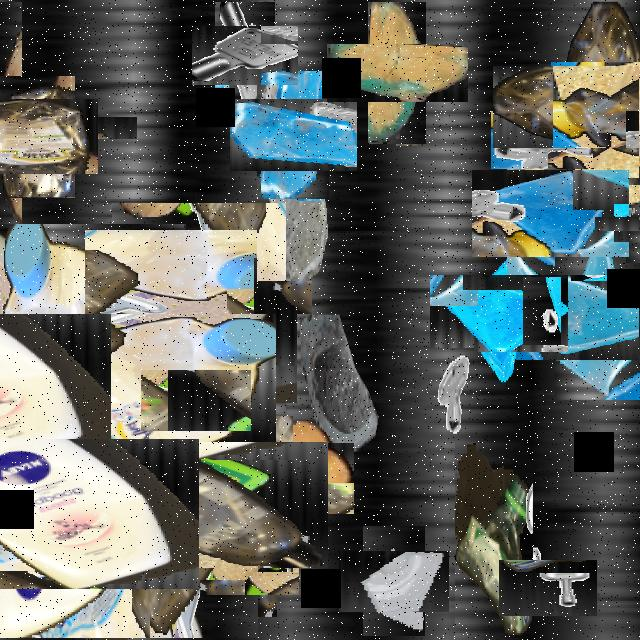glass: (297, 314, 391, 482), (490, 152, 612, 275), (535, 255, 640, 380), (445, 259, 553, 367), (243, 85, 343, 185), (257, 149, 331, 281), (351, 538, 437, 624), (19, 354, 81, 464), (210, 528, 288, 606)
metal: (153, 357, 239, 443), (204, 13, 286, 97), (502, 100, 582, 181), (509, 550, 587, 627), (427, 348, 475, 434), (523, 277, 561, 345), (610, 201, 640, 247)
plastic: (0, 269, 231, 545), (99, 216, 299, 417), (97, 407, 293, 603), (0, 414, 174, 613), (138, 416, 248, 580), (525, 33, 640, 179), (455, 443, 533, 638), (0, 87, 86, 186)
wood: (195, 416, 293, 572), (537, 75, 640, 191), (0, 59, 79, 196), (347, 23, 447, 123), (250, 432, 344, 524)
